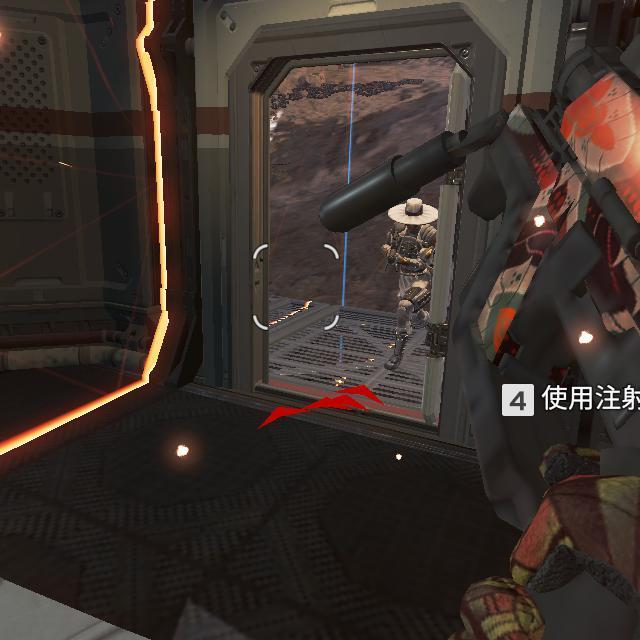avatar: (381, 196, 440, 372)
